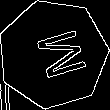M_W: (22, 25, 84, 83)
